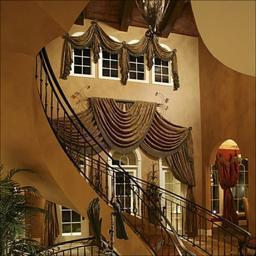Escaleras: (17, 46, 249, 251)
